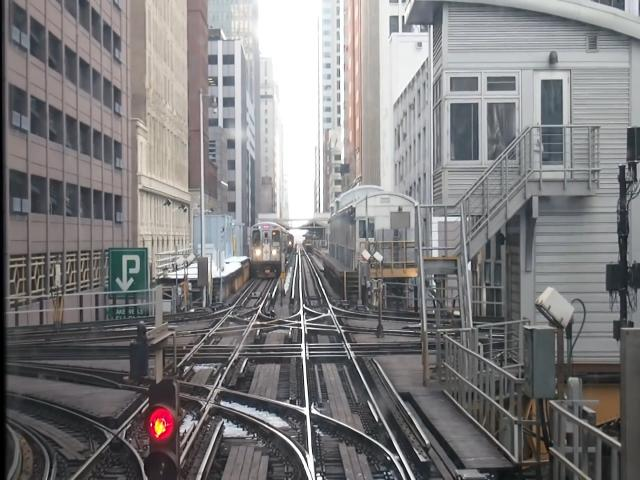signal light: (148, 376, 185, 480)
